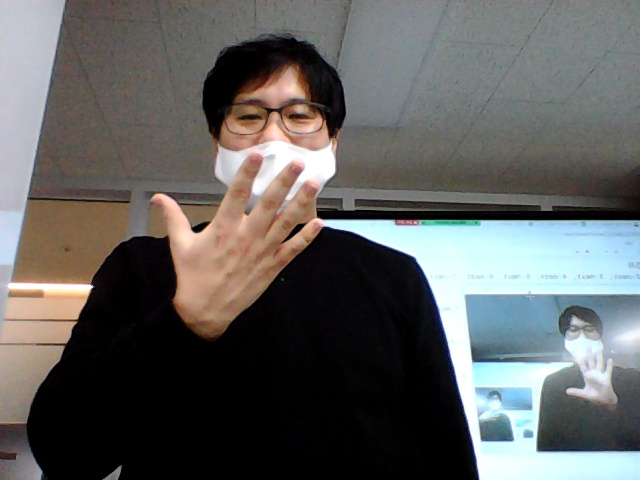five: (135, 143, 344, 348), (558, 343, 625, 413)
